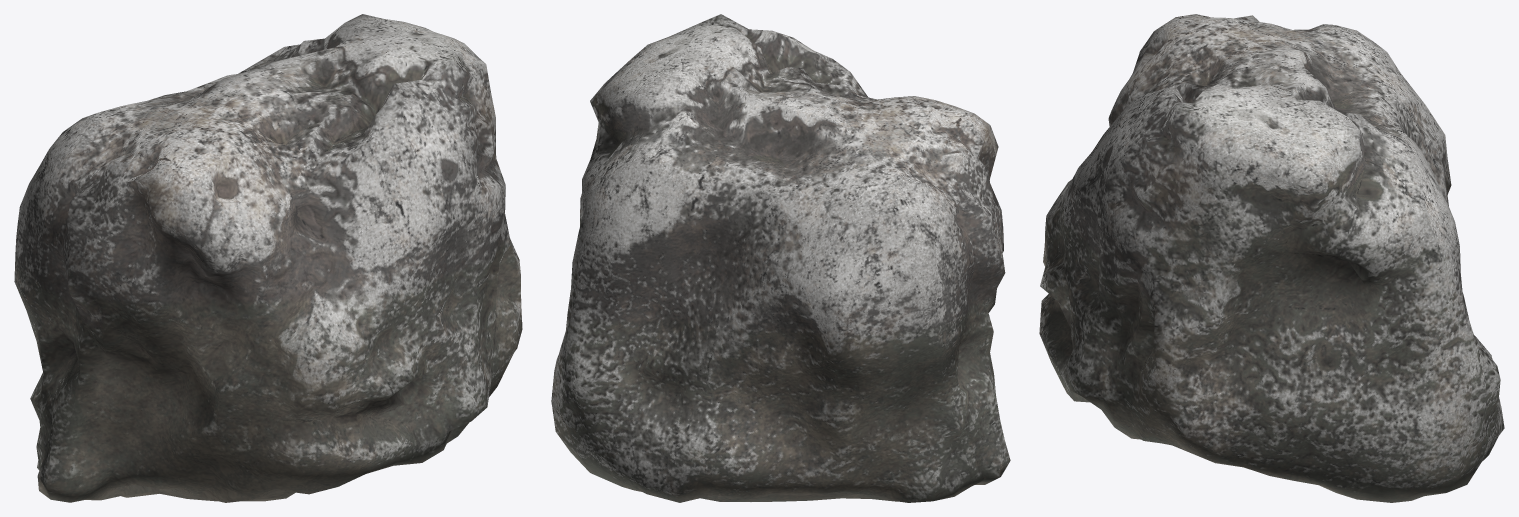
The model's file is rock1_LOD0.fbx.
3 views of the same model, side by side, from view 1: azimuth 30°, elevation 25°; view 2: azimuth 150°, elevation 25°; view 3: azimuth 270°, elevation 25° (orthographic). The views are drawn at different scales.
Parts seen in each view (by area): view 1: rock1_LOD0; view 2: rock1_LOD0; view 3: rock1_LOD0.
Boxes of the visible parts, x1,y1,x2,y2 form: rock1_LOD0: [14, 14, 522, 502]; rock1_LOD0: [551, 14, 1010, 502]; rock1_LOD0: [1039, 14, 1504, 502].
Bounding box in the file's own units: 810 × 763 × 774.
1 material, 1 textured.
